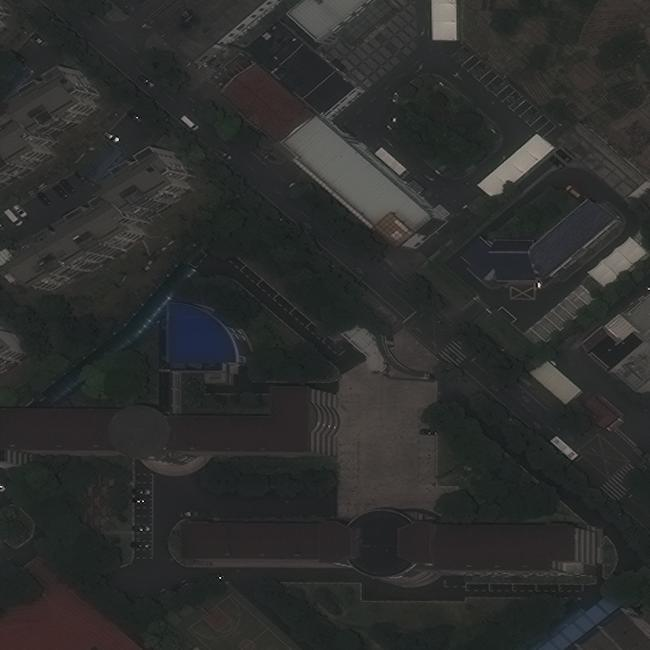parking lot: (459, 53, 553, 139), (526, 283, 594, 343), (133, 472, 155, 561)
